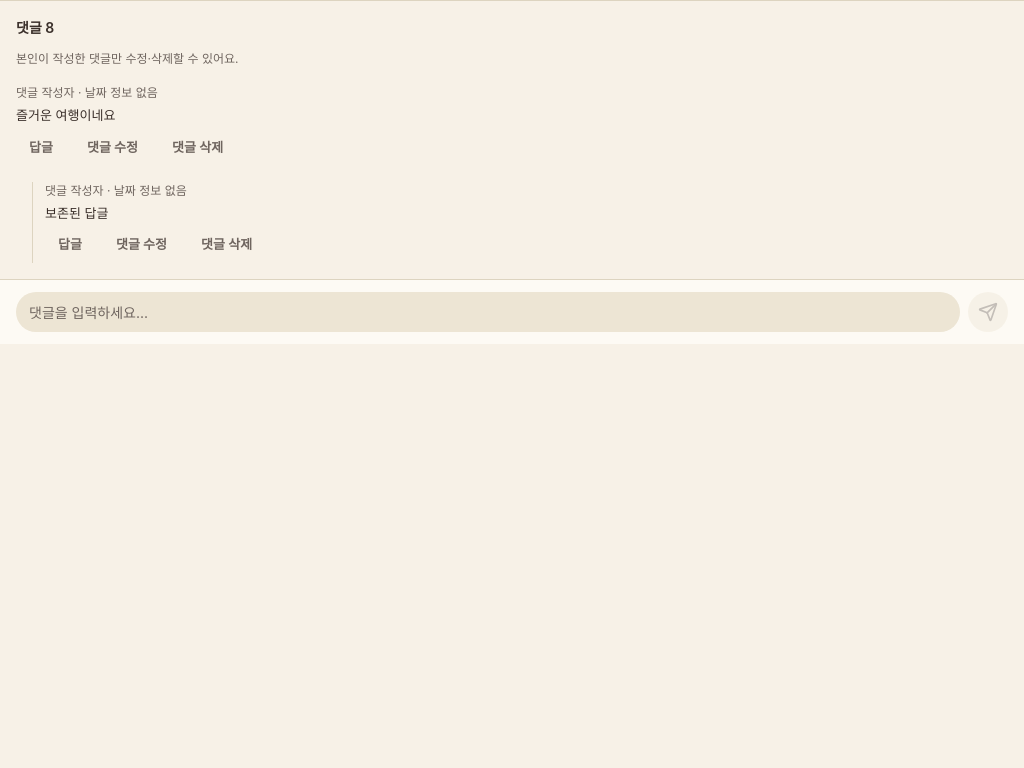
persisted post comments › keeps a deleted parent and its child after deletion, hides parent actions and reads the server count
Click the button "댓글 삭제" below "즐거운 여행이네요" at {"x": 198, "y": 148}, box [159,130,236,166]
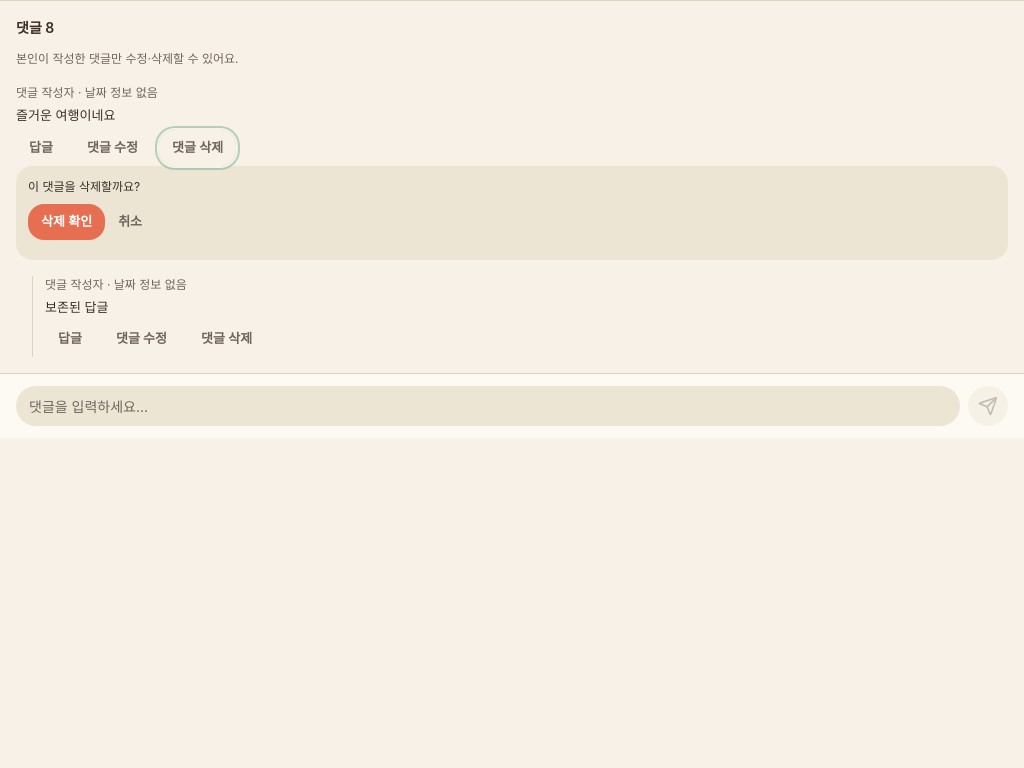
Click the button "삭제 확인" at {"x": 67, "y": 222}, box [28,204,105,240]
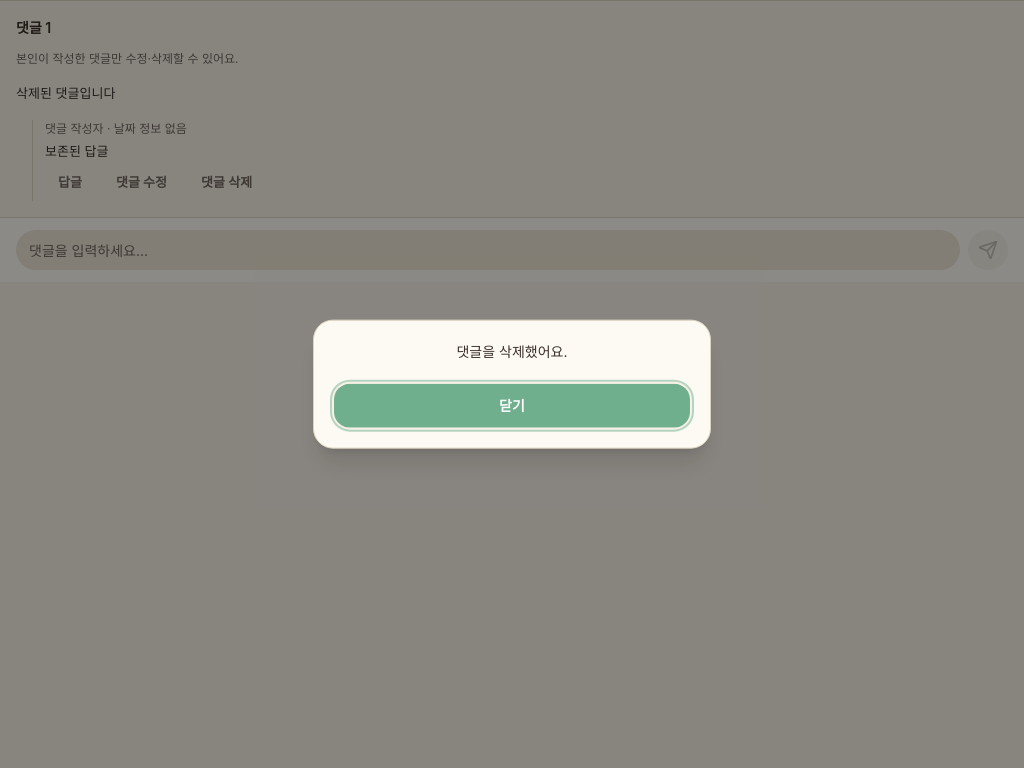
Click the button "닫기" at {"x": 512, "y": 405}, box [334,383,690,427]
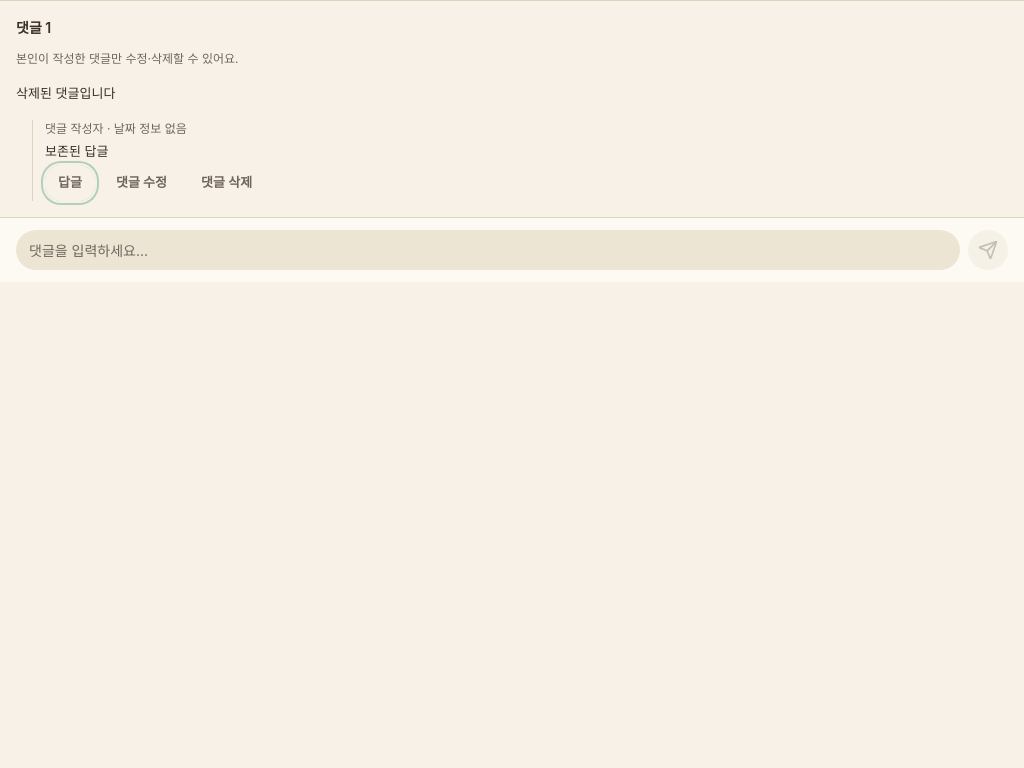
Check: the number of buttons "댓글 수정" is 1, box [103,165,180,201]
Check: the number of buttons "댓글 삭제" is 1, box [188,165,265,201]
Check: the number of buttons "답글" is 1, box [45,165,95,201]
